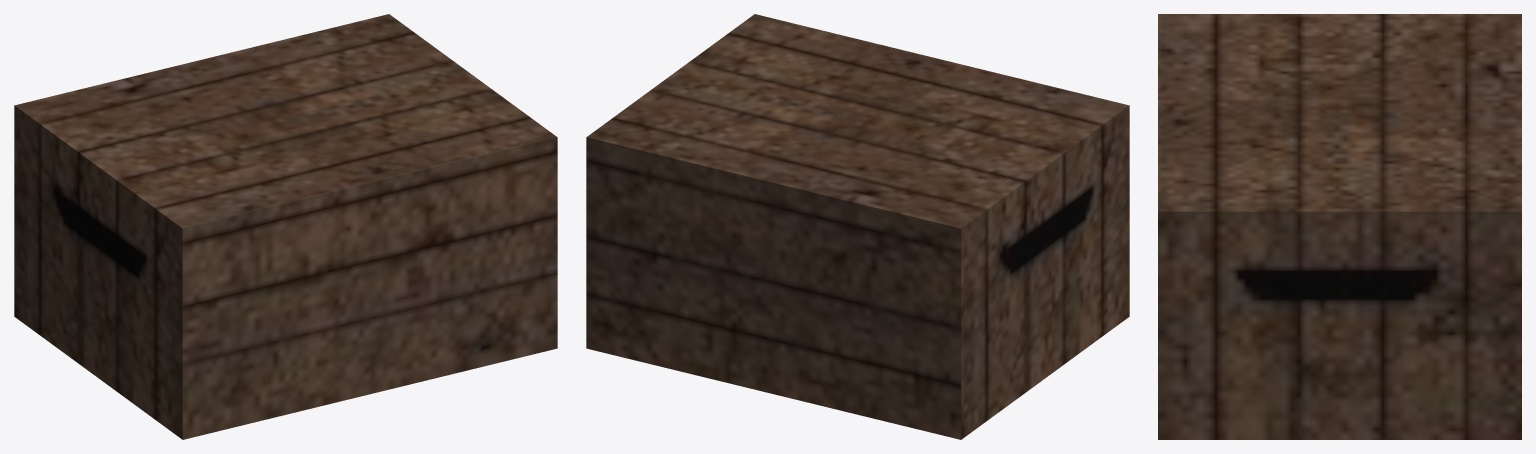
The model's file is wood_storage_box_textured.glb.
The picture shows the model from 3 angles, left to right: view 1: azimuth 30°, elevation 25°; view 2: azimuth 150°, elevation 25°; view 3: azimuth 270°, elevation 25°; orthographic projection. The views are drawn at different scales.
Parts seen in each view (by area): view 1: Cube.003; view 2: Cube.003; view 3: Cube.003.
Boxes of the visible parts, x1=… form: Cube.003: x1=14, y1=14, x2=557, y2=439; Cube.003: x1=586, y1=14, x2=1129, y2=439; Cube.003: x1=1158, y1=14, x2=1521, y2=439.
Bounding box in the file's own units: 0.6482 × 0.3493 × 0.5044.
1 material, 1 textured.
